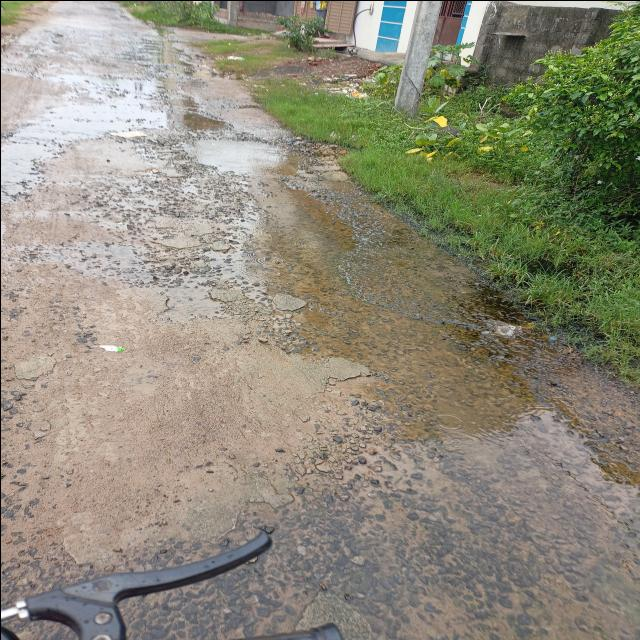potholes: (166, 91, 552, 439)
